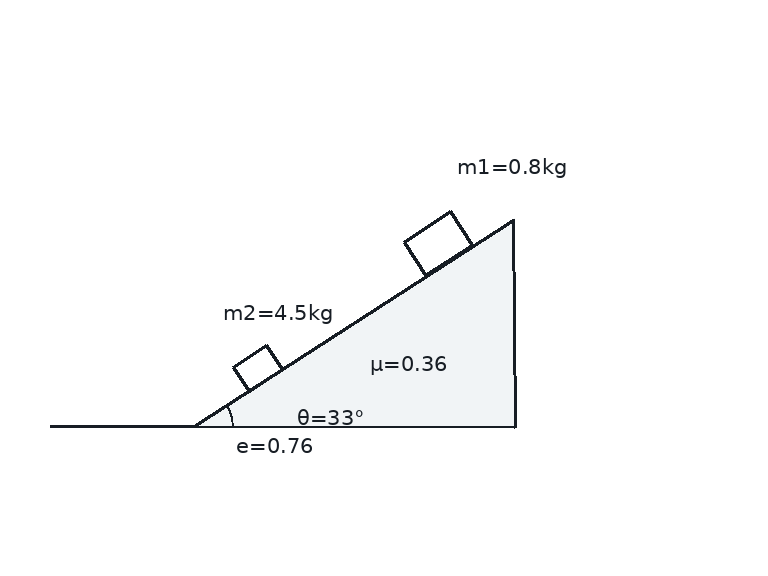block: (402, 209, 474, 278), (231, 343, 284, 393)
ramp: (191, 216, 516, 429)
